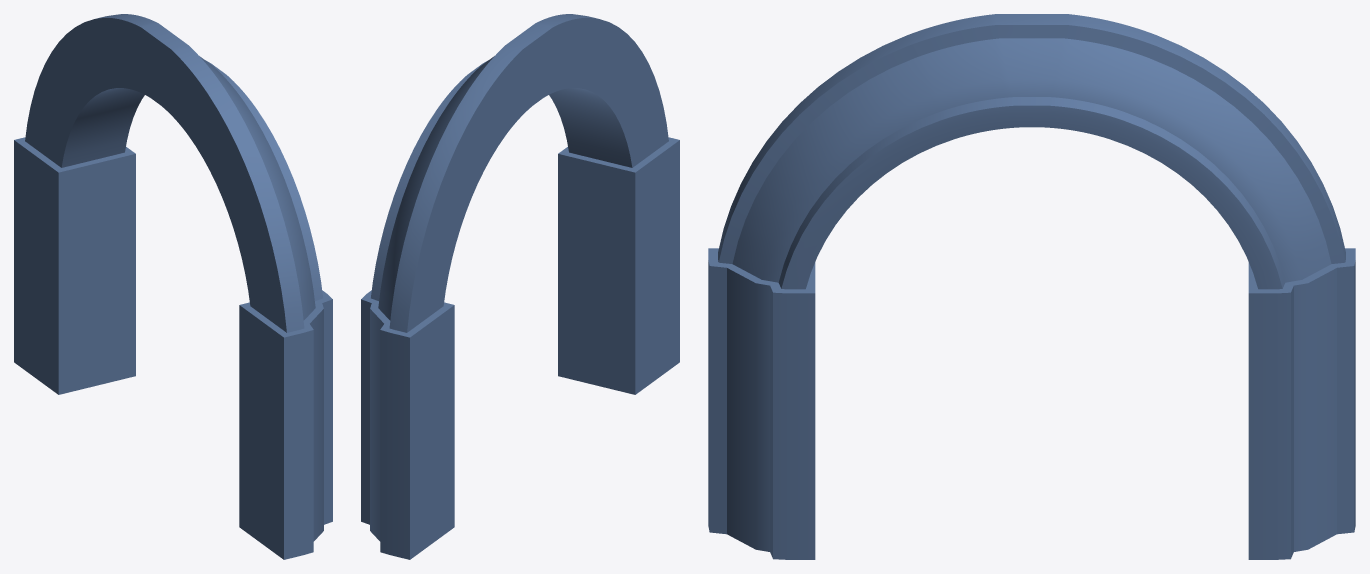
File: stone arch.gltf
3 renders of one model, left to right at view 1: azimuth 30°, elevation 25°; view 2: azimuth 150°, elevation 25°; view 3: azimuth 270°, elevation 25°, orthographic. The views are drawn at different scales.
Visible parts, largest first — view 1: Cube; view 2: Cube; view 3: Cube.
Boxes of the visible parts, x1,y1,x2,y2 form: Cube: [14, 14, 332, 559]; Cube: [361, 14, 679, 559]; Cube: [708, 14, 1355, 559].
Size of the model in its own units: 2 by 10.41 by 12.1.
